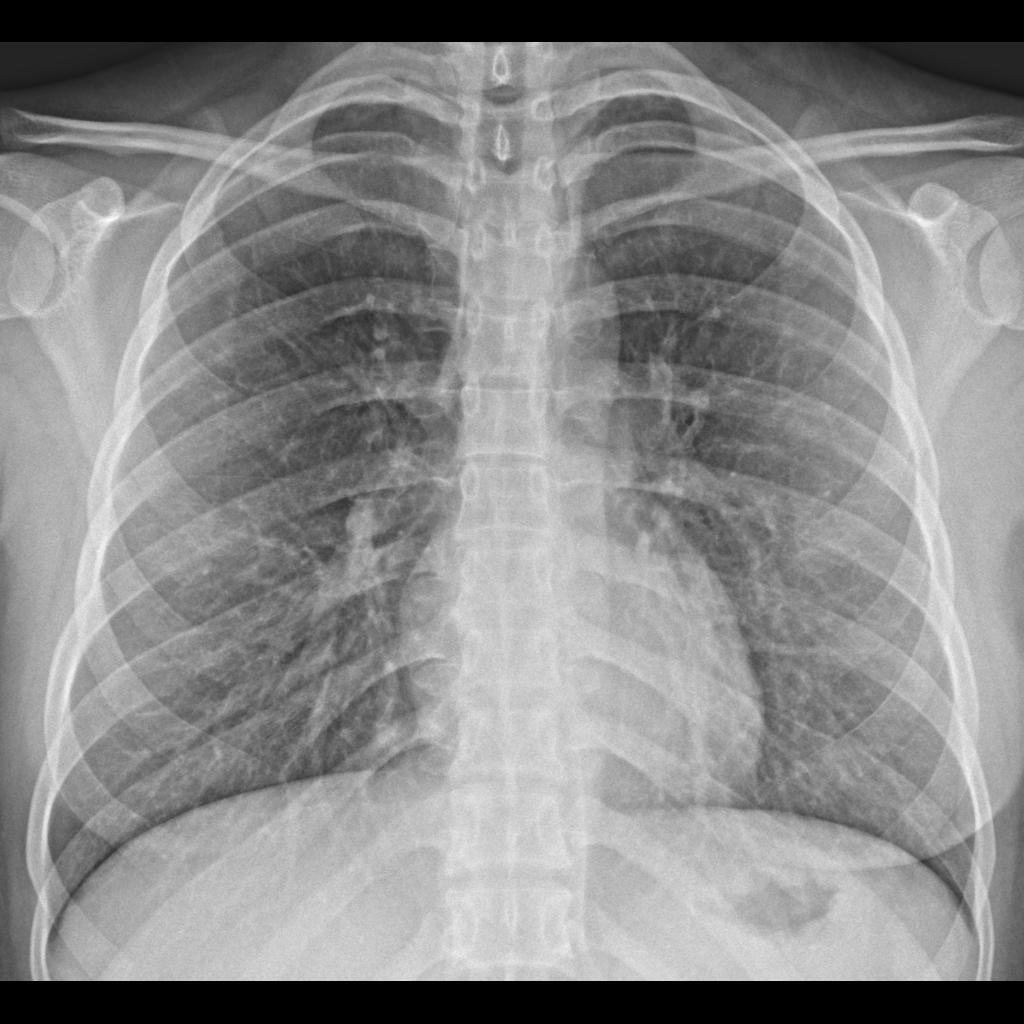Nodule: (366, 717, 420, 756)
